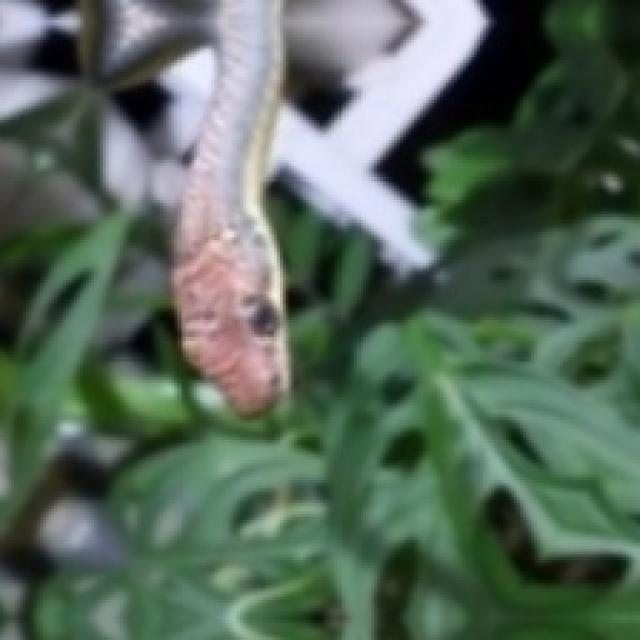paradise tree snake: (171, 0, 286, 411)
